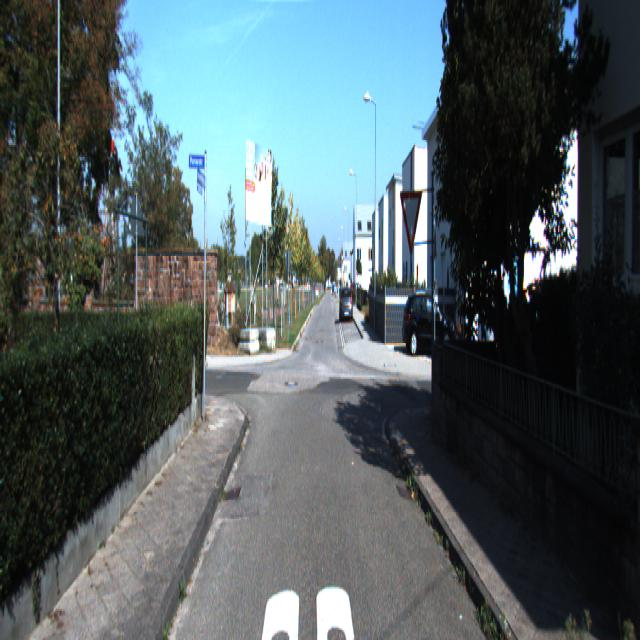Car: (402, 288, 458, 359), (340, 286, 353, 323)
